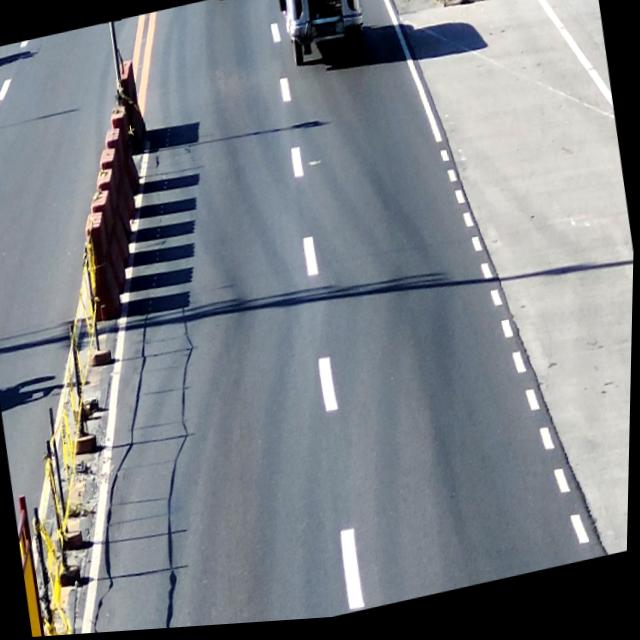Jeep: (278, 0, 373, 79)
